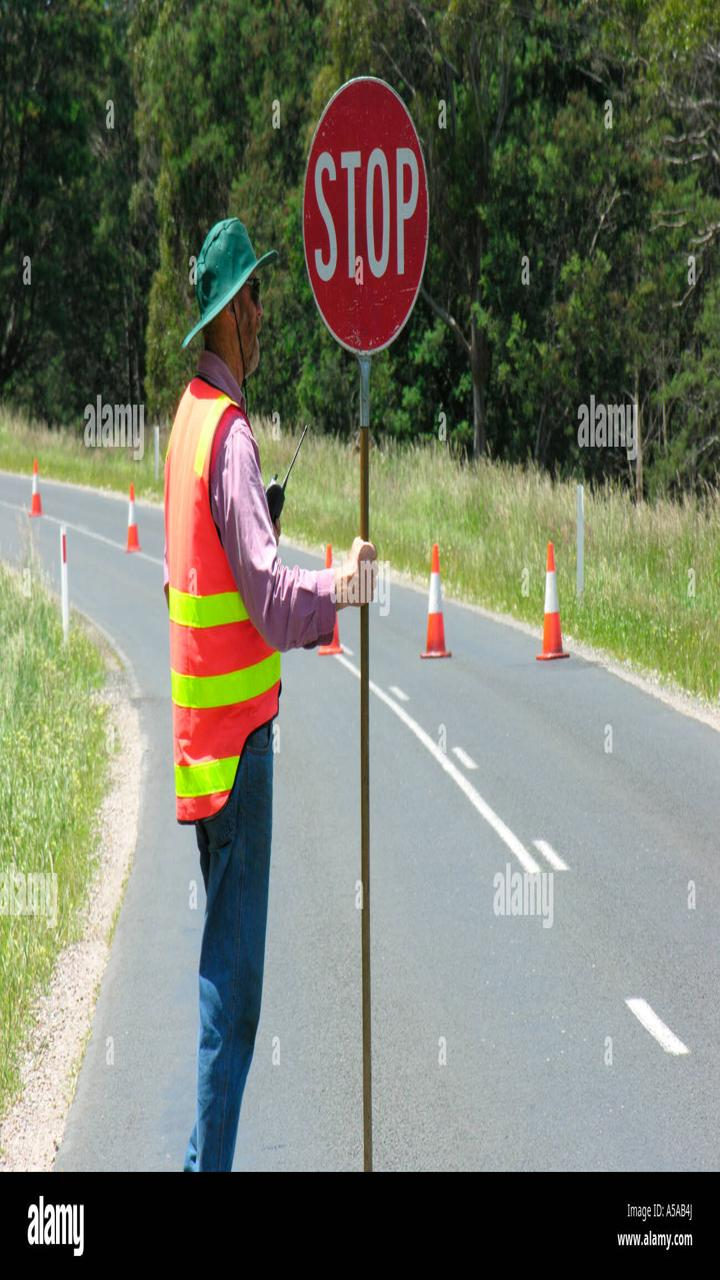Traffic sign: (274, 49, 463, 377)
pedestrian: (115, 207, 366, 1172)
